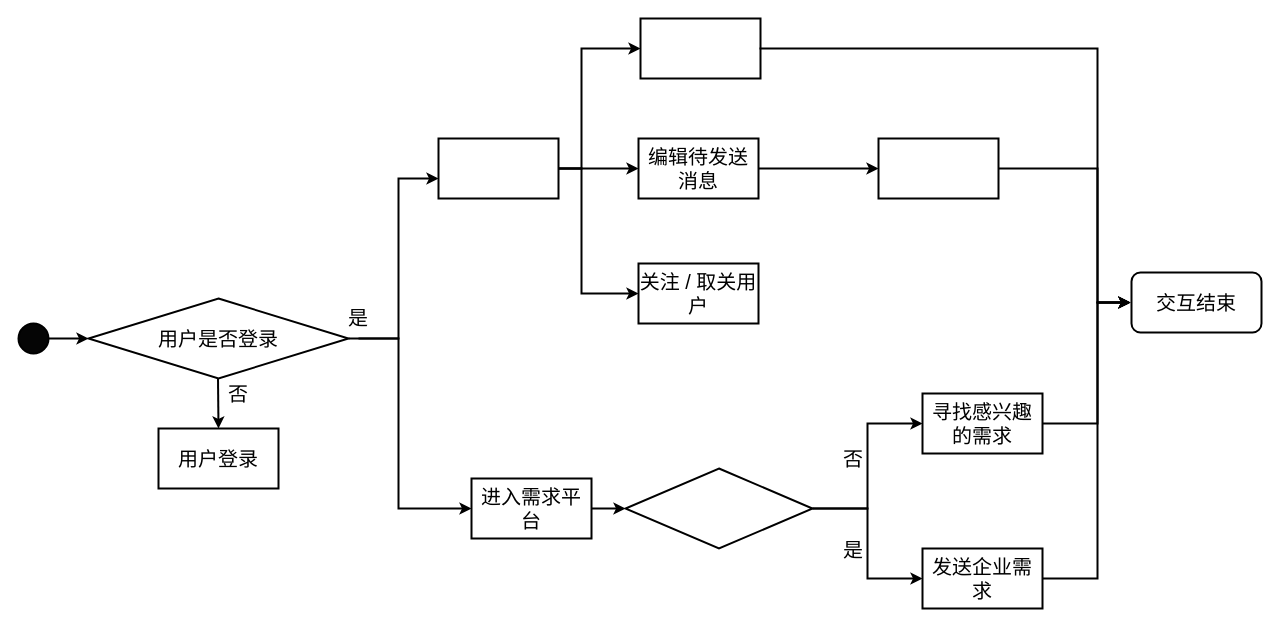
This 1279x626 diagram has some shape labels left out. Here are the shapes that lost their labels. From the top down, the box of each, then its label:
(639, 17, 761, 79): 查看用户主页
(437, 137, 559, 199): 选择用户/ 企业
(877, 137, 999, 199): 点击发送
(624, 467, 813, 549): 是否是企业
